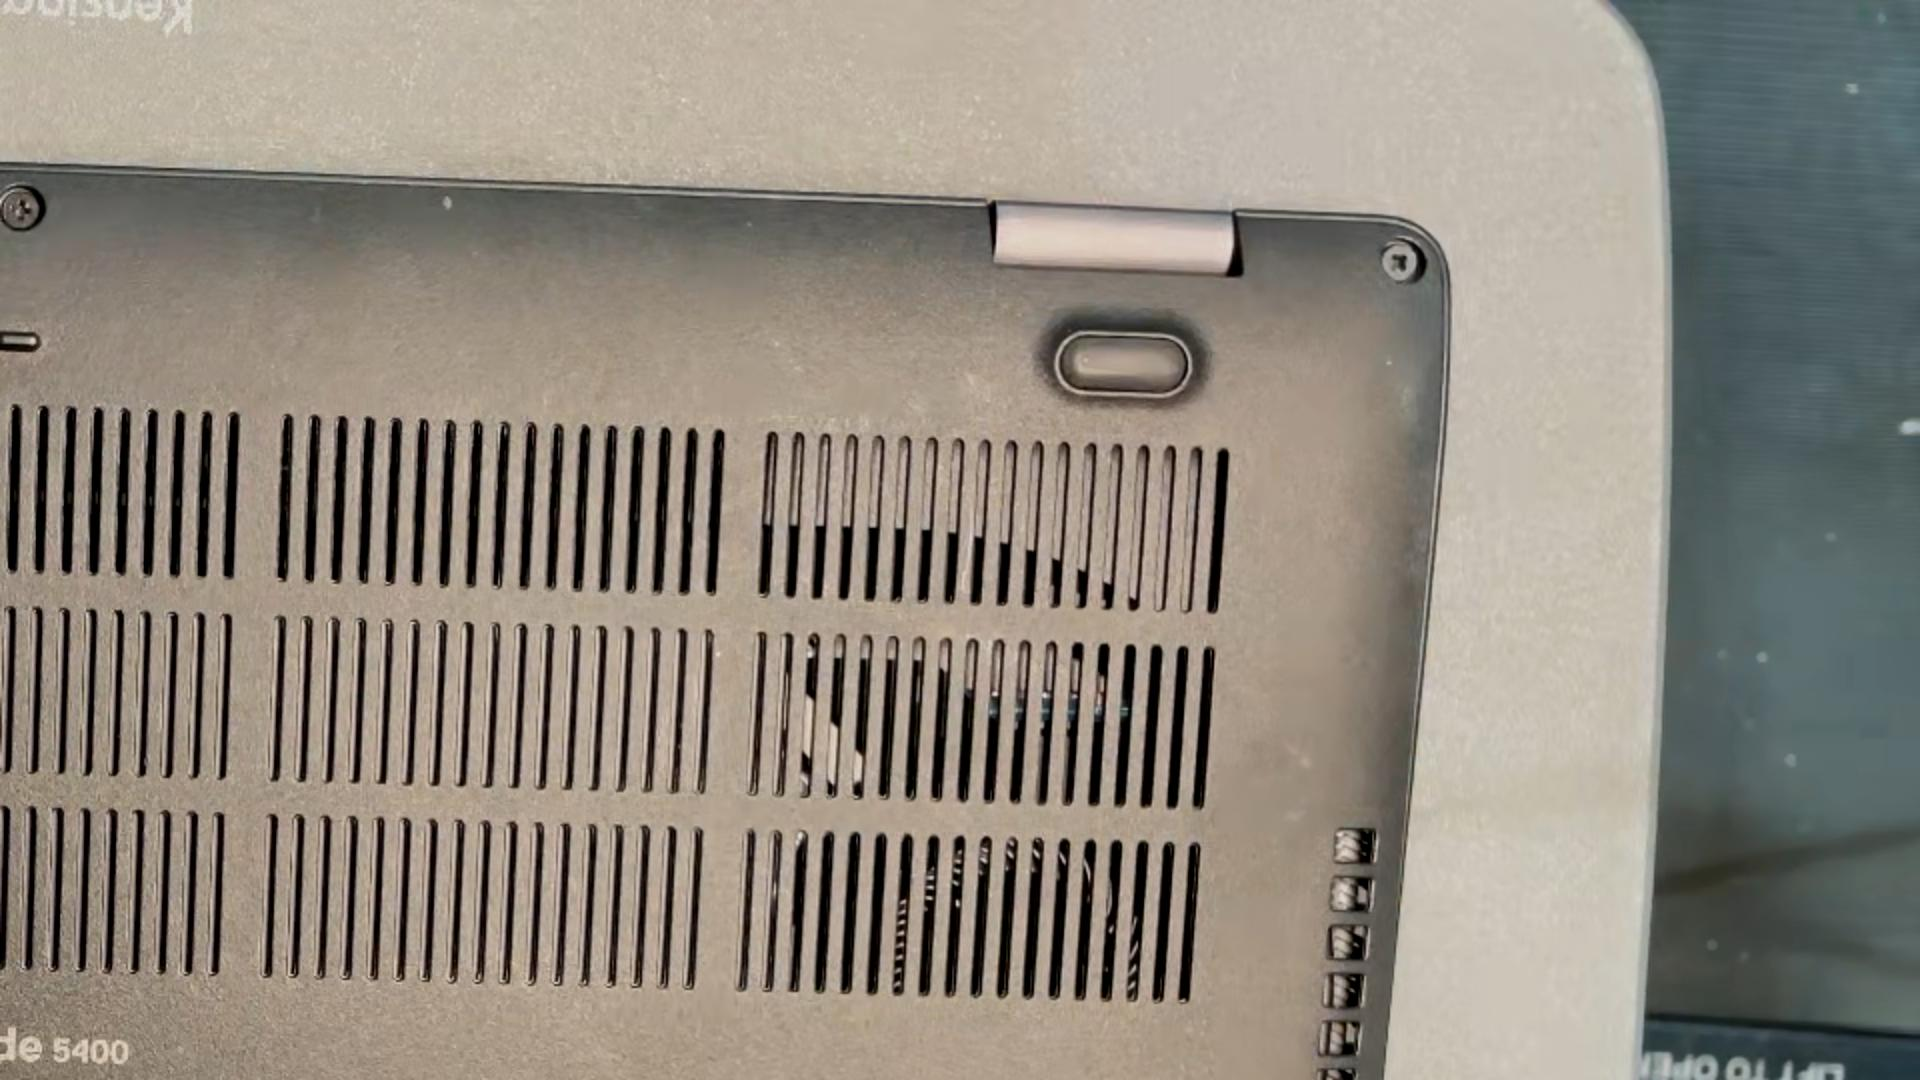chip: (440, 190, 458, 210)
